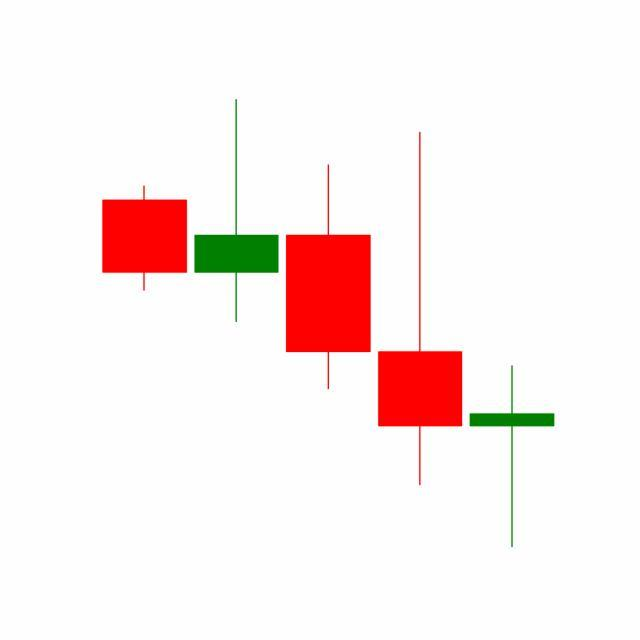Spinning Top: (466, 364, 559, 551)
